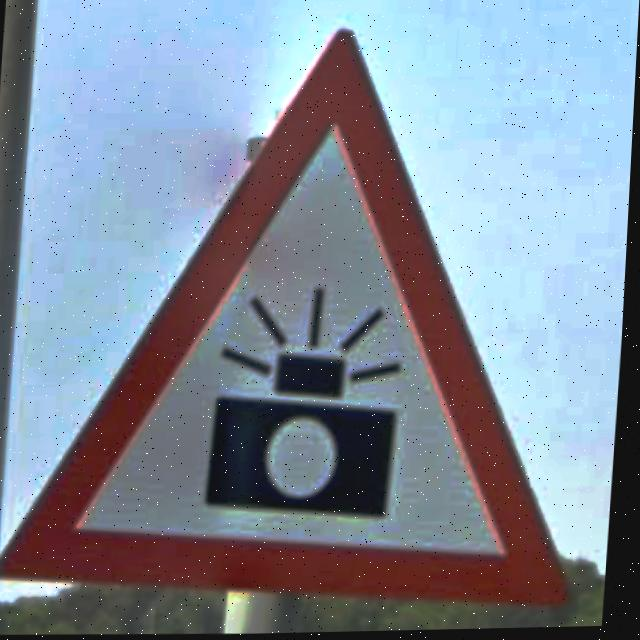speedcamera: (5, 33, 574, 606)
